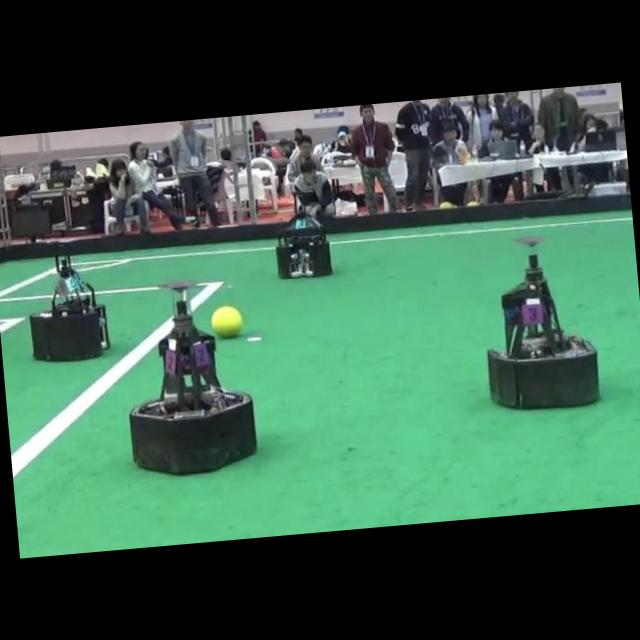ball: (210, 305, 243, 336)
robot: (130, 282, 255, 473), (487, 253, 599, 408), (30, 244, 109, 360), (278, 209, 331, 278)
